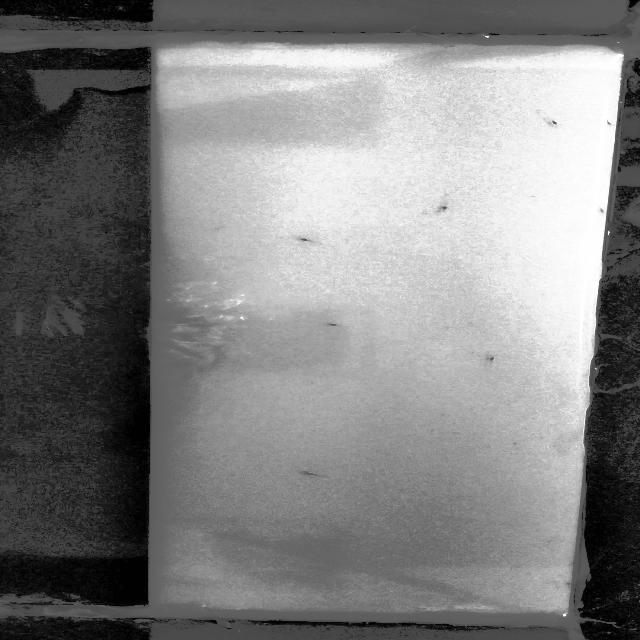shrimp: (292, 469, 328, 478), (320, 320, 347, 330), (545, 115, 559, 130), (433, 202, 450, 214), (296, 236, 315, 245), (486, 353, 496, 364)
